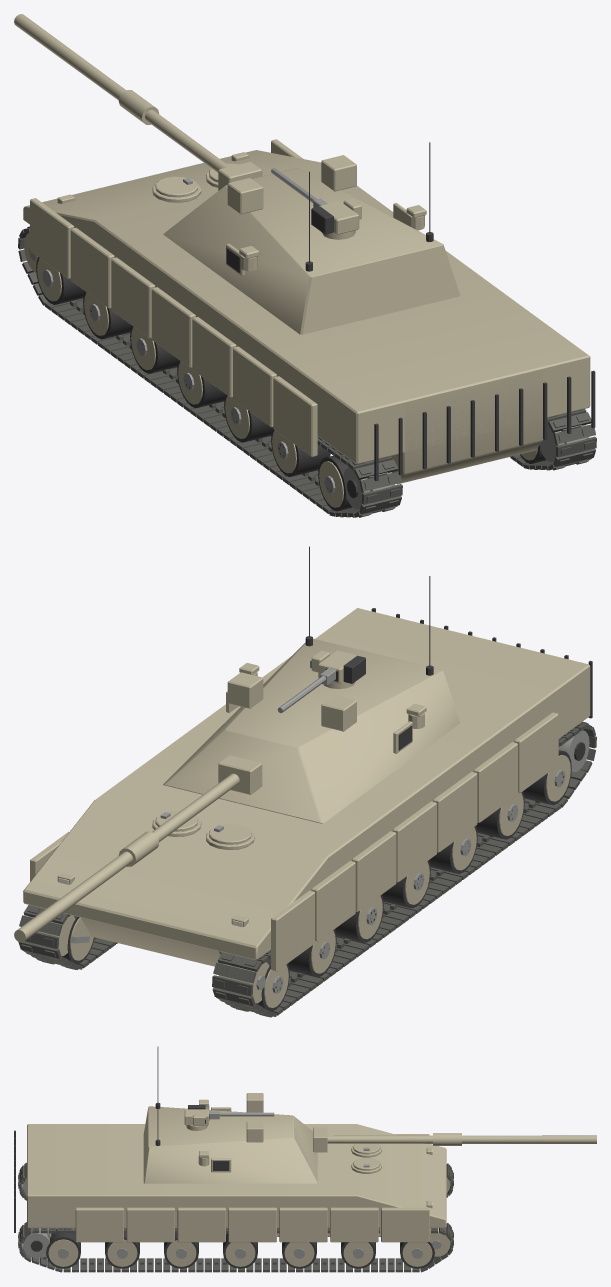
File: rus_mbt_14.glb
The picture shows the model from 3 angles, top to bottom: view 1: azimuth 30°, elevation 25°; view 2: azimuth 150°, elevation 25°; view 3: azimuth 270°, elevation 25°; orthographic projection. The views are drawn at different scales.
Visible parts, largest first — view 1: body, turret, barrel; view 2: body, turret, barrel; view 3: body, turret, barrel.
Part boxes in pixels (box(x1,y1,x2,y2)): body: box(18, 139, 596, 517); turret: box(163, 142, 460, 334); barrel: box(14, 14, 262, 190); body: box(18, 608, 596, 1017); turret: box(163, 546, 460, 823); barrel: box(14, 755, 262, 942); body: box(14, 1124, 453, 1272); turret: box(143, 1046, 317, 1183); barrel: box(313, 1127, 596, 1152).
Size of the model in its own units: 3.7 by 3.92 by 12.02.
